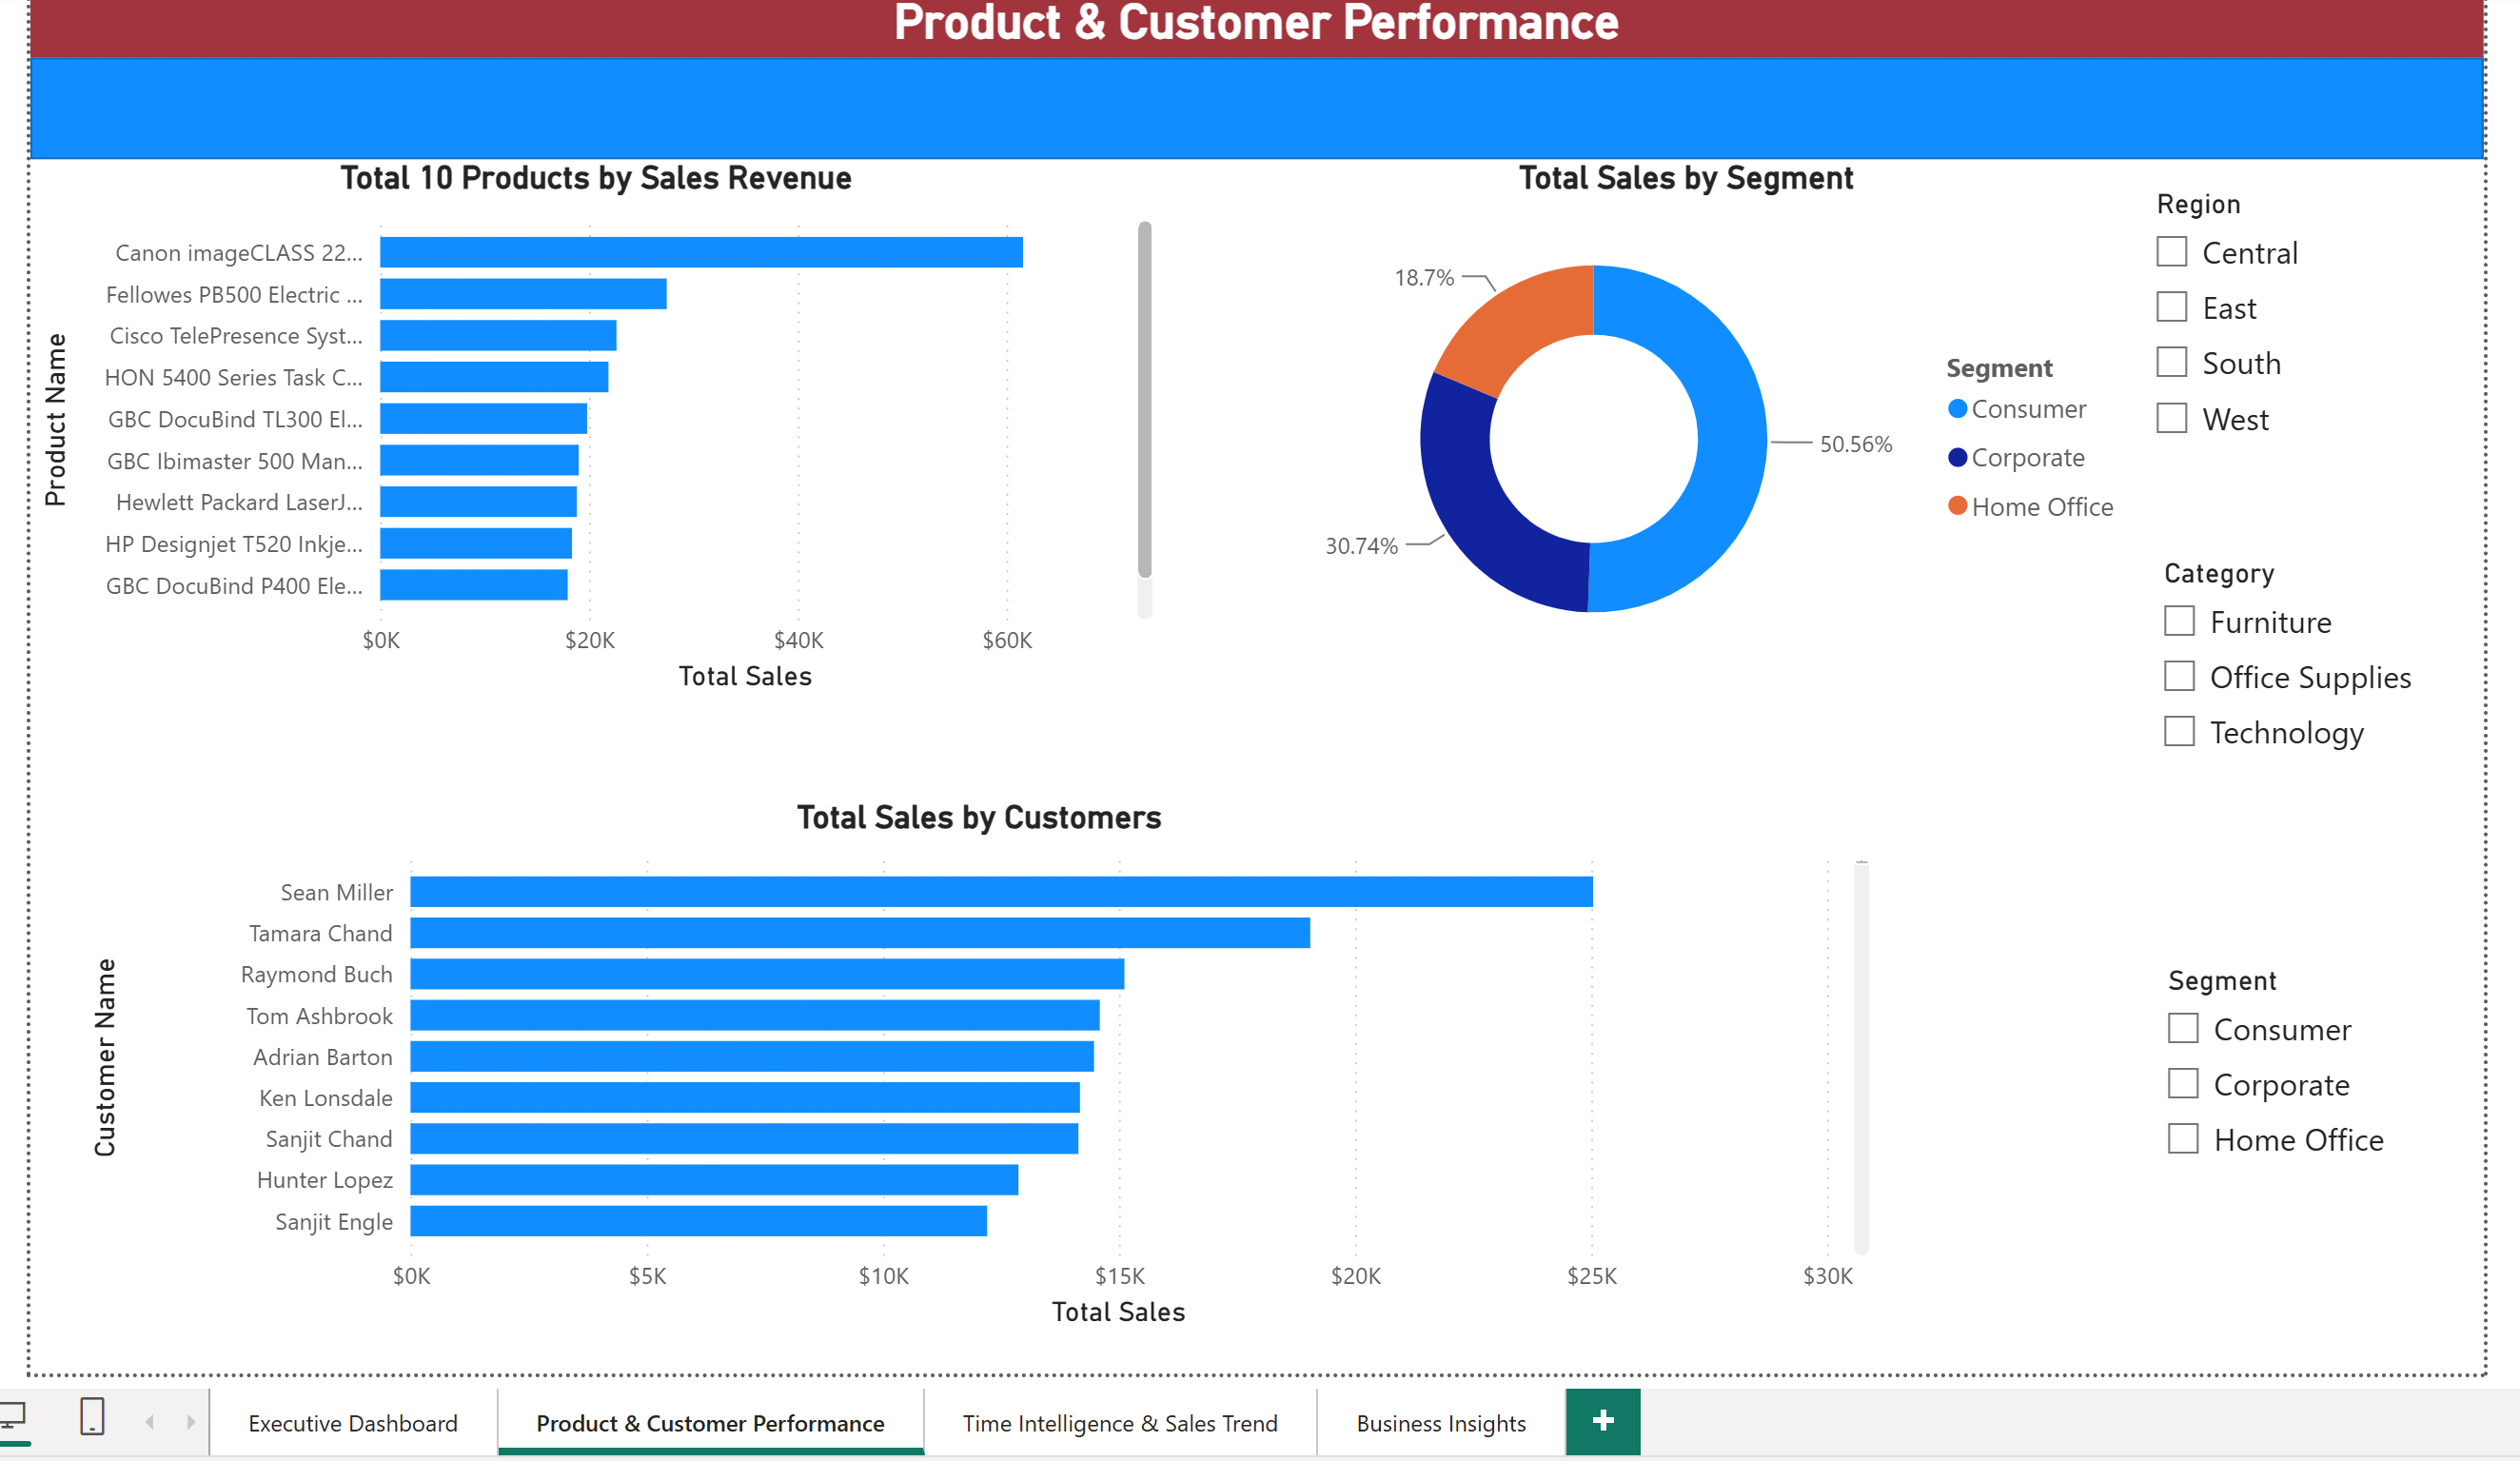

The dashboard page shown, as its layout file describes it:
{"tool":"powerbi","page":{"name":"Product & Customer Performance","canvas":[1280,720],"ordinal":1},"visuals":[{"type":"clusteredBarChart","title":"Total 10 Products by Sales Revenue","fields":{"Category":["Sales Data.Product Name"],"Y":["Sales Data.Total Sales"]},"box":[0,86.6,590.7,282.7],"z":0},{"type":"clusteredBarChart","title":"Total Sales by Customers","fields":{"Category":["Sales Data.Customer Name"],"Y":["Sales Data.Total Sales"]},"box":[25.8,420.4,938.7,280.6],"z":1000},{"type":"donutChart","fields":{"Category":["Sales Data.Segment"],"Y":["Sales Data.Total Sales"]},"box":[626.8,86.6,475.2,273.1],"z":2000},{"type":"slicer","fields":{"Values":["Sales Data.Region"]},"box":[1095.9,96.2,184.1,148],"z":3000},{"type":"slicer","fields":{"Values":["Sales Data.Category"]},"box":[1100.8,288.7,161.2,160],"z":4000},{"type":"slicer","fields":{"Values":["Sales Data.Segment"]},"box":[1102,501.7,160,151.6],"z":5000},{"type":"shape","title":"Product & Customer Performance","box":[0,0,1280,86.6],"z":6000}]}

Visuals, with their boxes on the page's 1280x720 design canvas (x1, y1, x2, y2). These are canvas units, not pixel positions in the 2520x1461 screenshot, which may show the page scaled, cropped or inside an application window:
"Total 10 Products by Sales Revenue" clusteredBarChart: <bbox>0, 87, 591, 369</bbox>
"Total Sales by Customers" clusteredBarChart: <bbox>26, 420, 964, 701</bbox>
donutChart - Sales Data.Segment x Sales Data.Total Sales: <bbox>627, 87, 1102, 360</bbox>
slicer - Sales Data.Region: <bbox>1096, 96, 1280, 244</bbox>
slicer - Sales Data.Category: <bbox>1101, 289, 1262, 449</bbox>
slicer - Sales Data.Segment: <bbox>1102, 502, 1262, 653</bbox>
"Product & Customer Performance" shape: <bbox>0, 0, 1280, 87</bbox>
